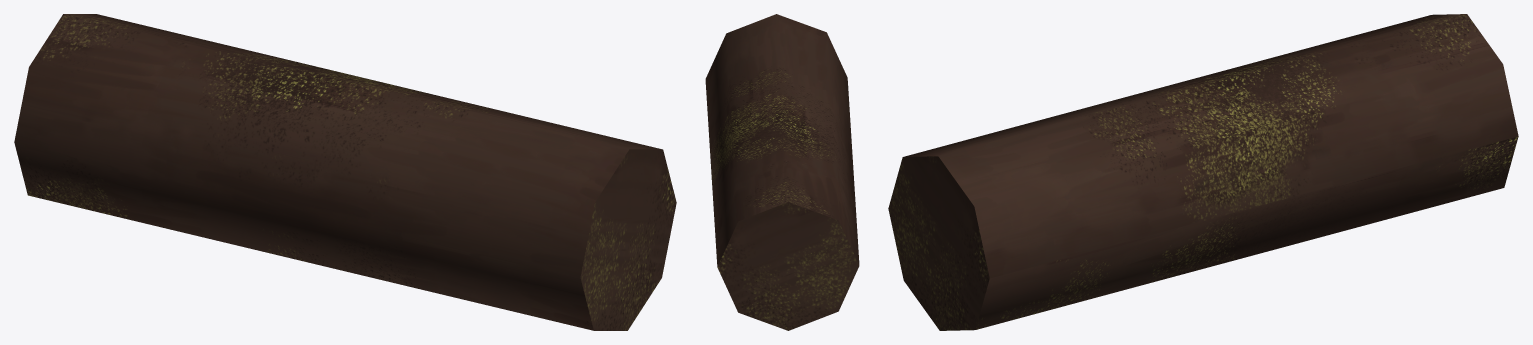
File: Debris03.fbx
The picture shows the model from 3 angles, left to right: view 1: azimuth 30°, elevation 25°; view 2: azimuth 150°, elevation 25°; view 3: azimuth 270°, elevation 25°; orthographic projection. The views are drawn at different scales.
Parts seen in each view (by area): view 1: Debris03; view 2: Debris03; view 3: Debris03.
Part boxes in pixels (box(x1,y1,x2,y2)): Debris03: box(14, 14, 676, 330); Debris03: box(705, 14, 859, 330); Debris03: box(888, 14, 1518, 330).
Bounding box in the file's own units: 2.23 × 0.9067 × 2.87.
Materials: 1 (1 with a texture image).
